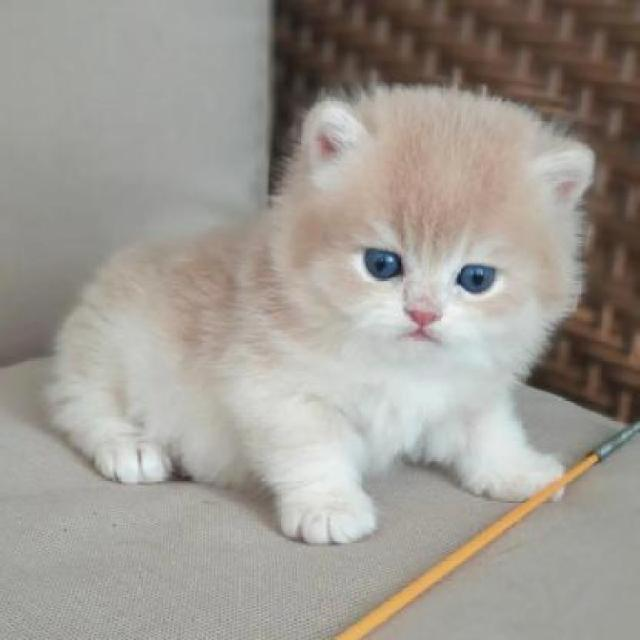cat: (48, 65, 608, 529)
